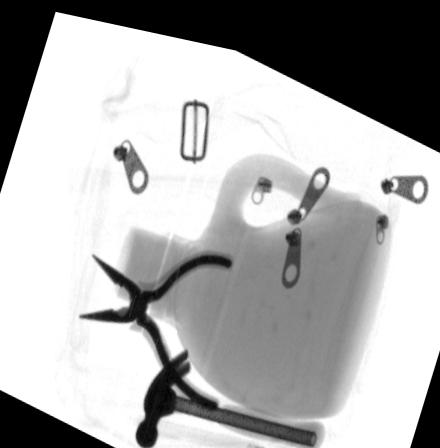Hammer: (132, 340, 327, 445)
Pliers: (76, 241, 234, 403)
